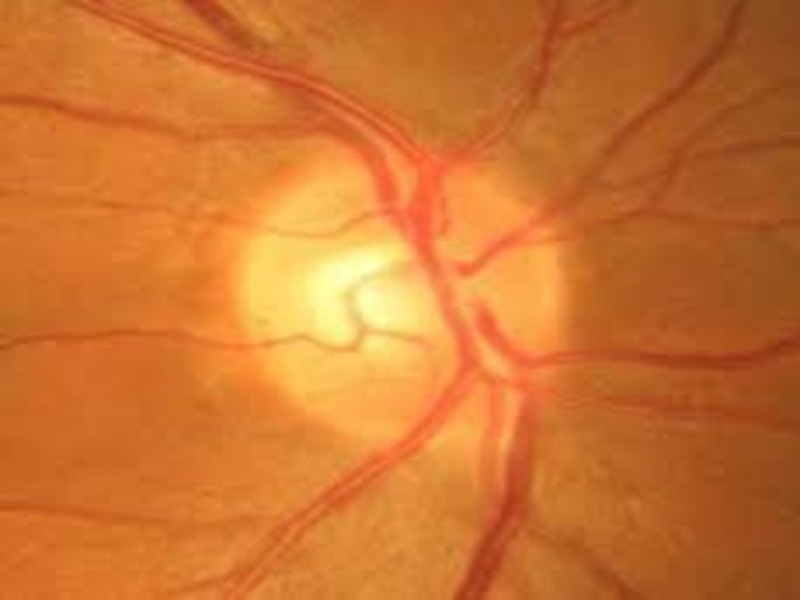Optic Cup: (306, 243, 438, 346)
Optic Disc: (234, 147, 561, 438)
